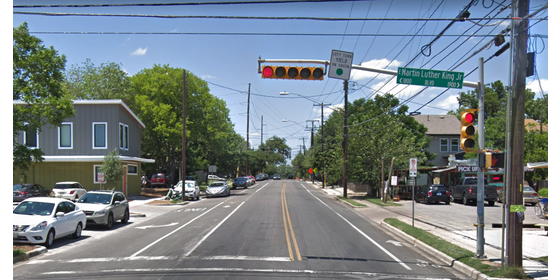left turn yield on green sign: (327, 47, 356, 82)
street name sign: (395, 63, 465, 93)
